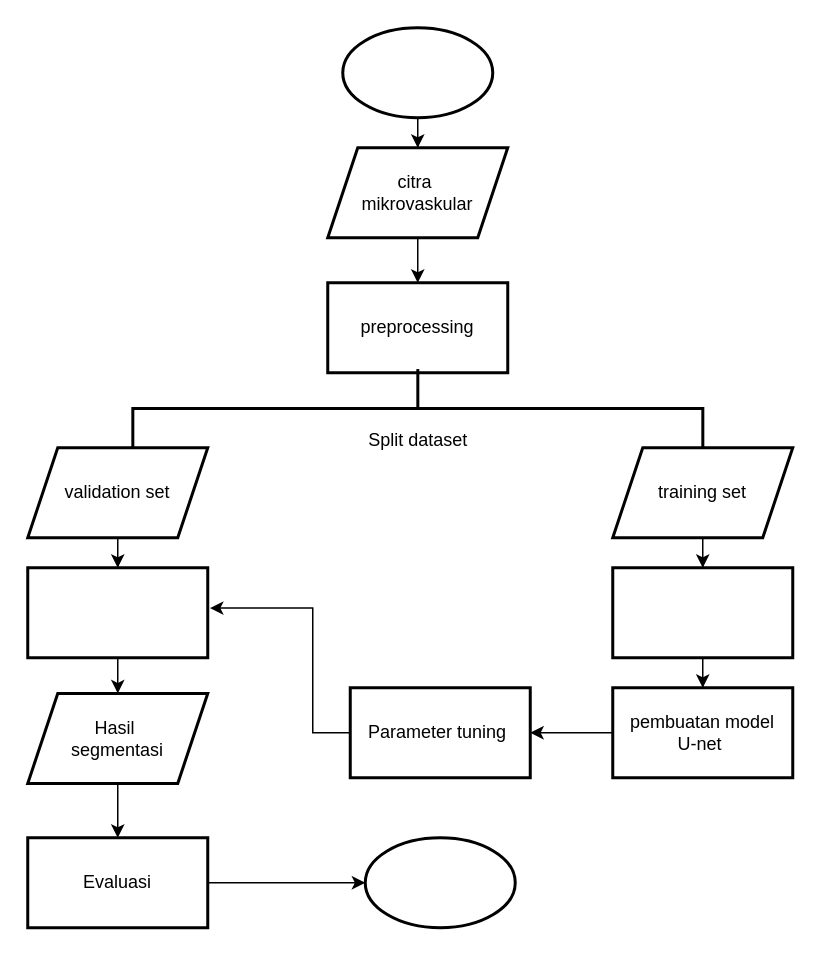
The diagram is 819 pixels wide and 954 high, and some of its shapes have lost their labels. Each missing label, with the centre of its shape:
Augmentasi: (x=702, y=612)
Model U-net: (x=117, y=612)
mulai: (x=417, y=72)
selesai: (x=439, y=882)
